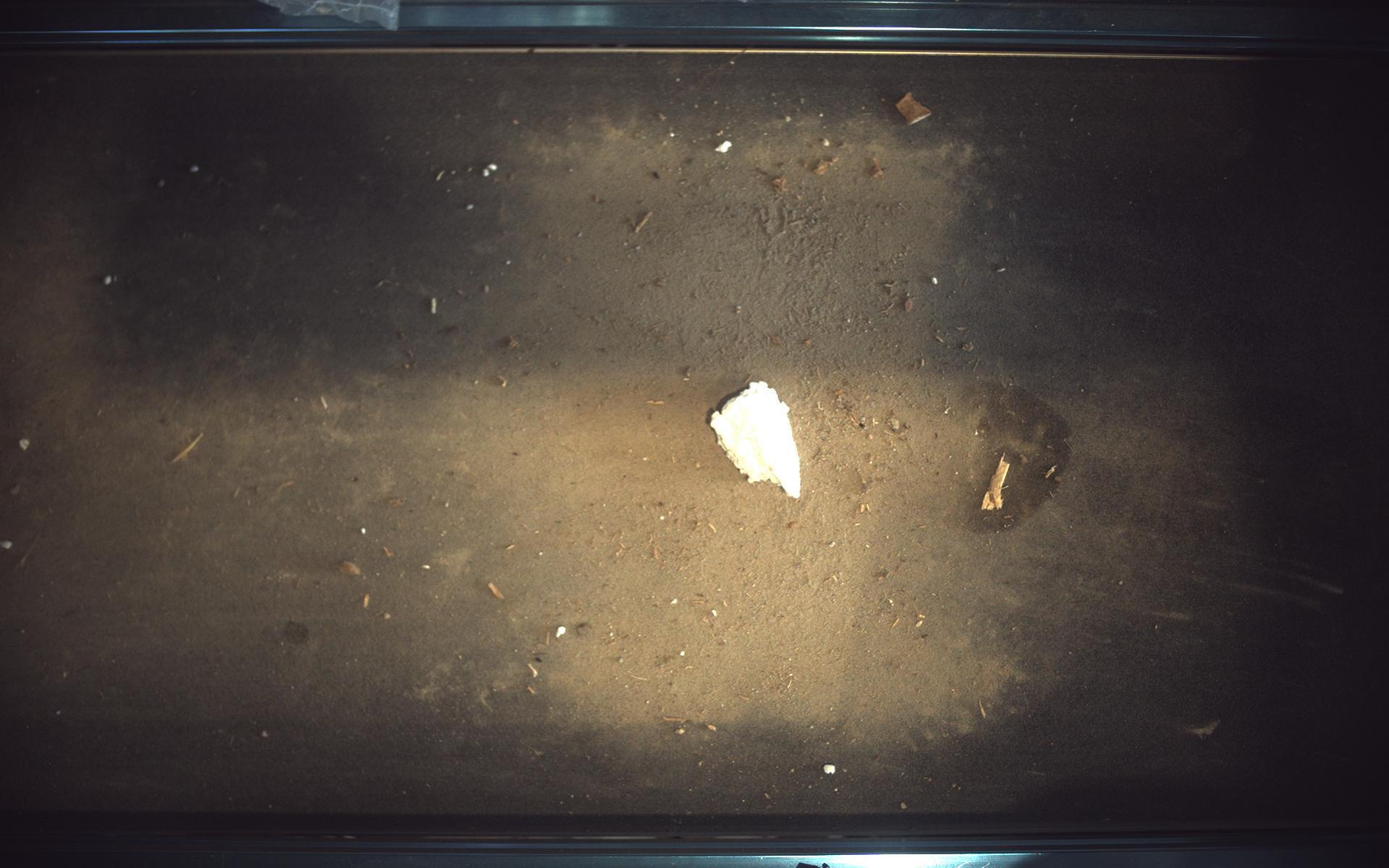foam: (711, 382, 802, 498)
